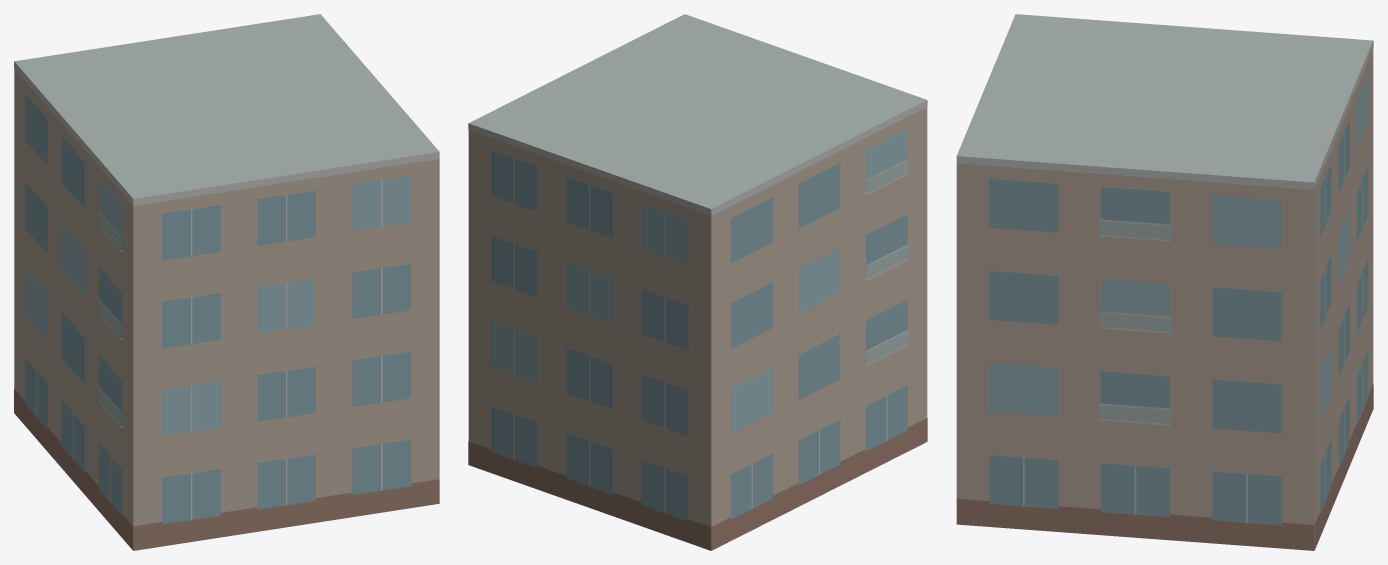
Rendered from residential-b5f558d5-85f5-4226-af32-acf7c09c4732.glb.
3 renders of one model, left to right at view 1: azimuth 30°, elevation 25°; view 2: azimuth 150°, elevation 25°; view 3: azimuth 270°, elevation 25°, orthographic. The views are drawn at different scales.
Parts seen in each view (by area): view 1: residential-b5f558d5-85f5-4226-af32-acf7c09c4732.tmp; view 2: residential-b5f558d5-85f5-4226-af32-acf7c09c4732.tmp; view 3: residential-b5f558d5-85f5-4226-af32-acf7c09c4732.tmp.
Part boxes in pixels (left/top/right/bottom): residential-b5f558d5-85f5-4226-af32-acf7c09c4732.tmp: left=14, top=14, right=439, bottom=550; residential-b5f558d5-85f5-4226-af32-acf7c09c4732.tmp: left=468, top=14, right=927, bottom=550; residential-b5f558d5-85f5-4226-af32-acf7c09c4732.tmp: left=956, top=14, right=1373, bottom=550.
Bounding box in the file's own units: 11.98 × 12.2 × 12.52.
